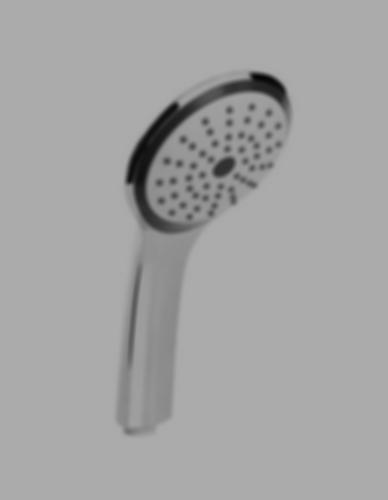Ducha: (98, 58, 339, 441)
